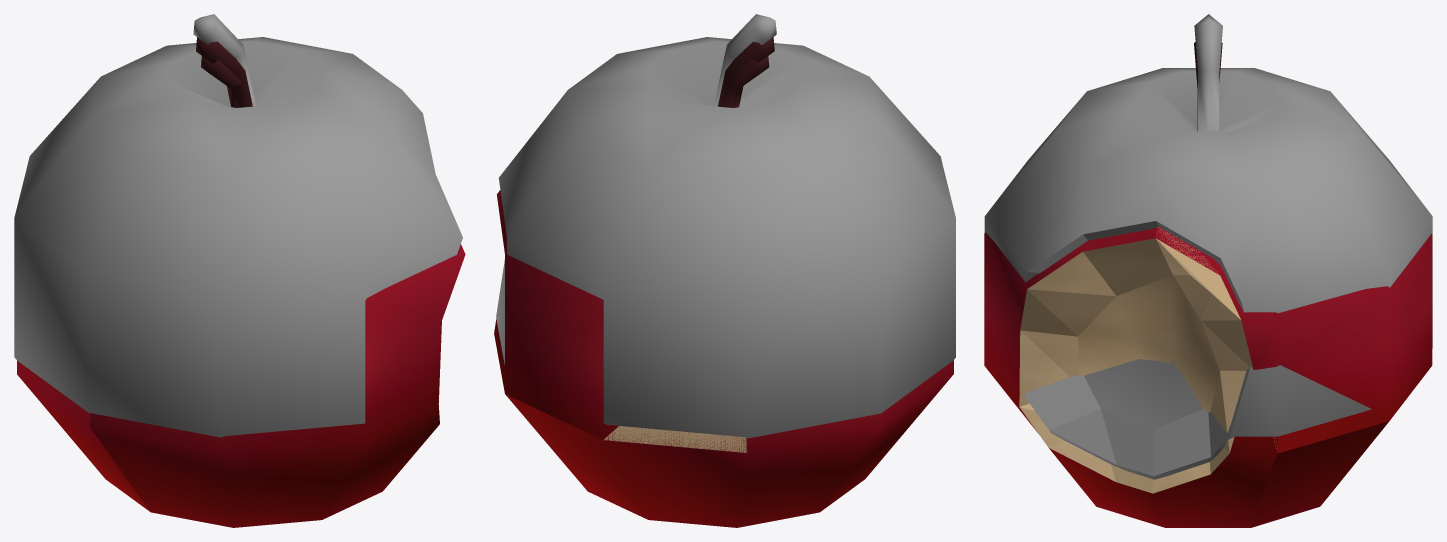
The model's file is apple01.FBX.
3 views of the same model, side by side, from view 1: azimuth 30°, elevation 25°; view 2: azimuth 150°, elevation 25°; view 3: azimuth 270°, elevation 25° (orthographic). The views are drawn at different scales.
Parts seen in each view (by area): view 1: snxq_apple, applesp02, applesp01, applesp03; view 2: snxq_apple, applesp01, applesp03; view 3: snxq_apple, applesp02, applesp03, applesp01.
Boxes of the visible parts, x1=… form: snxq_apple: x1=14, y1=14, x2=462, y2=437; applesp02: x1=90, y1=244, x2=465, y2=527; applesp01: x1=17, y1=360, x2=149, y2=511; applesp03: x1=196, y1=37, x2=252, y2=107; snxq_apple: x1=496, y1=14, x2=955, y2=438; applesp01: x1=505, y1=360, x2=953, y2=527; applesp03: x1=494, y1=36, x2=774, y2=452; snxq_apple: x1=984, y1=14, x2=1432, y2=479; applesp02: x1=984, y1=227, x2=1277, y2=527; applesp03: x1=1155, y1=42, x2=1432, y2=453; applesp01: x1=1251, y1=421, x2=1388, y2=527.
Bounding box in the file's own units: 0.1981 × 0.2455 × 0.2097.
2 materials, 1 textured.
